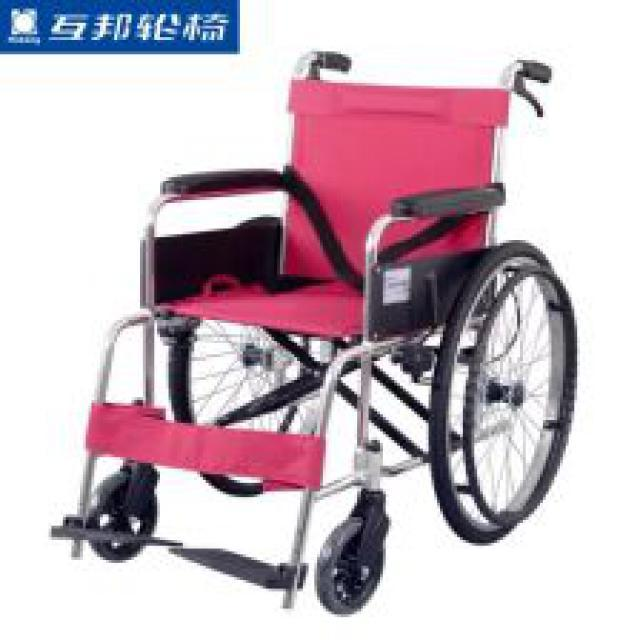wheelchair: (42, 40, 598, 597)
